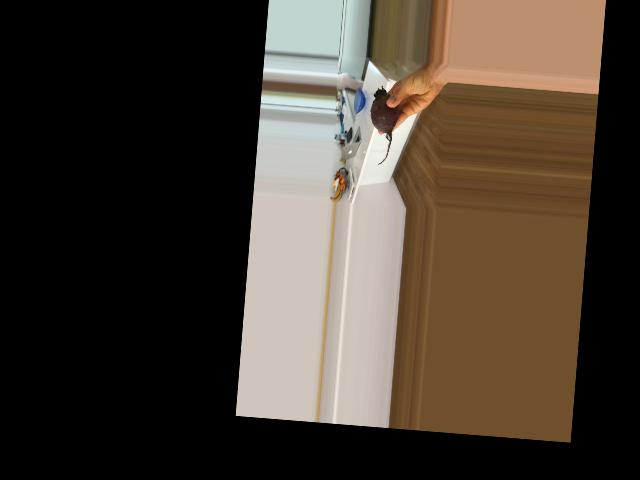beet: (366, 86, 400, 166)
